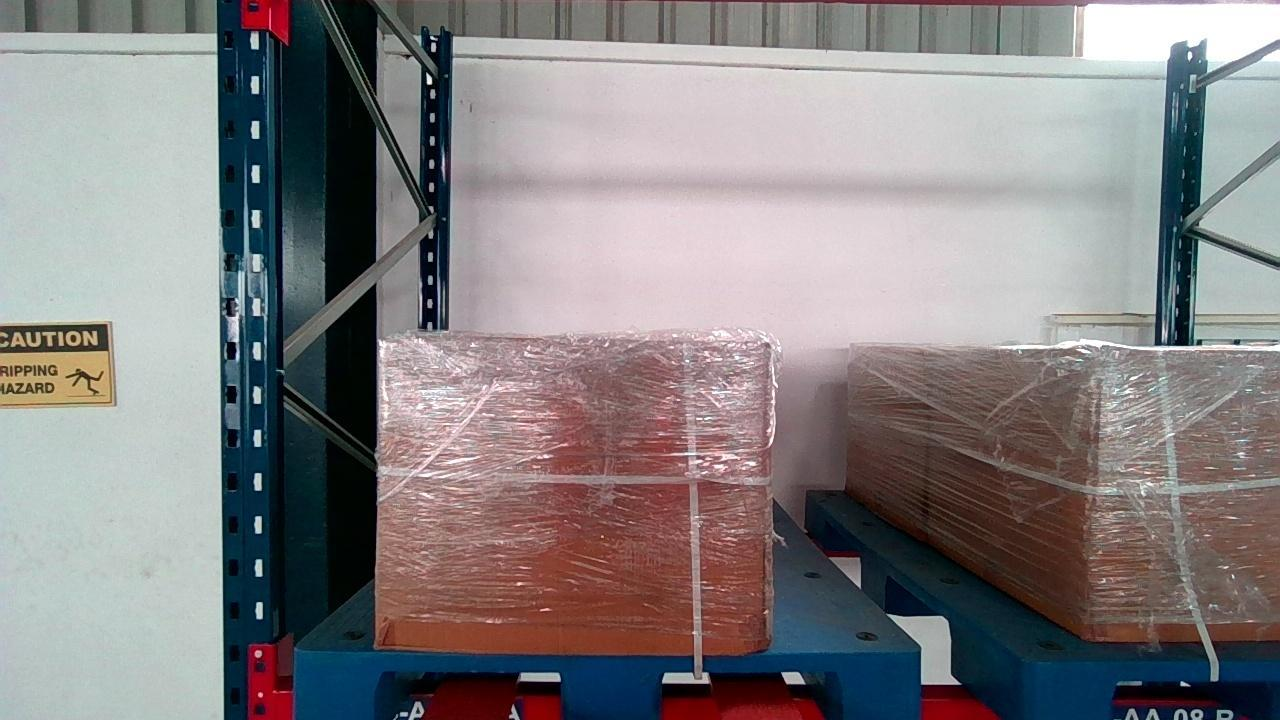small_pallet: (293, 646, 920, 720), (1030, 655, 1280, 720)
